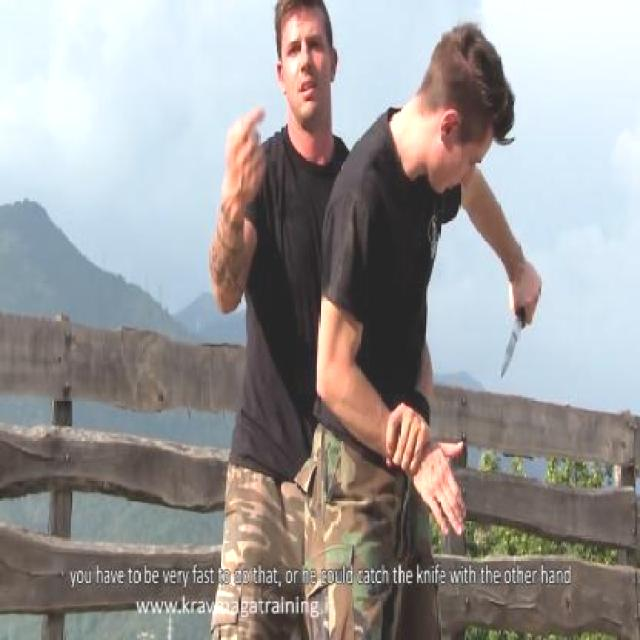knife: (494, 269, 544, 385)
